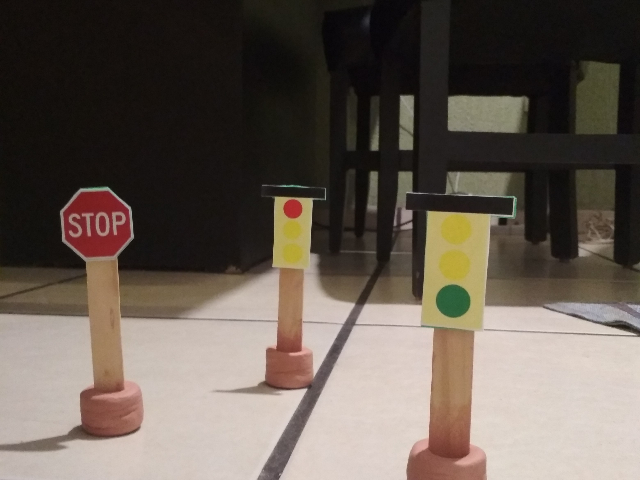Green: (406, 190, 519, 331)
Red: (258, 181, 328, 272)
Stop: (57, 186, 135, 266)
